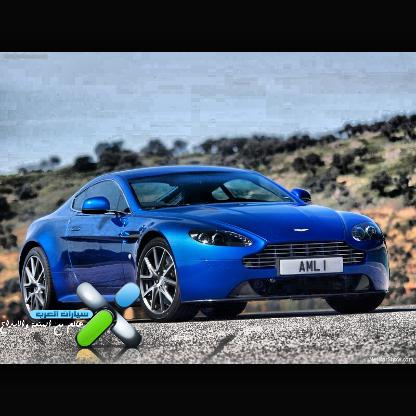Aston Martin V8 Vantage Coupe 2012: (17, 166, 396, 324)
